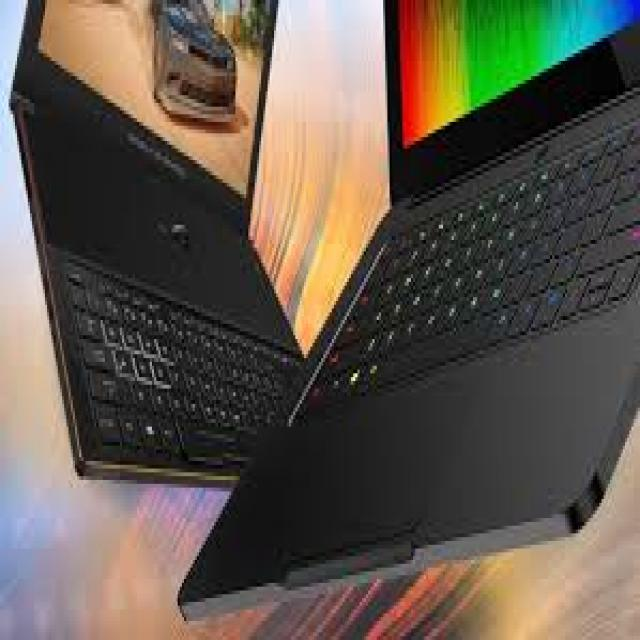others: (6, 4, 640, 598)
